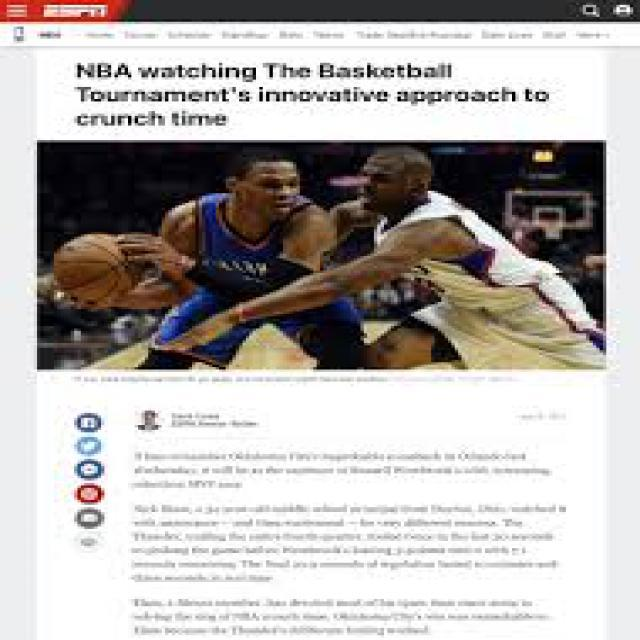basketball: (54, 232, 135, 302)
